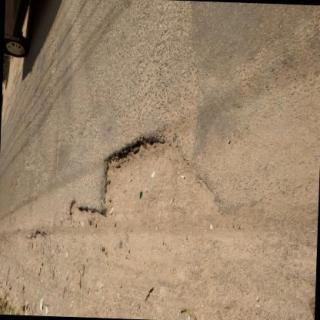pothole: (62, 135, 218, 232), (24, 231, 53, 258)
